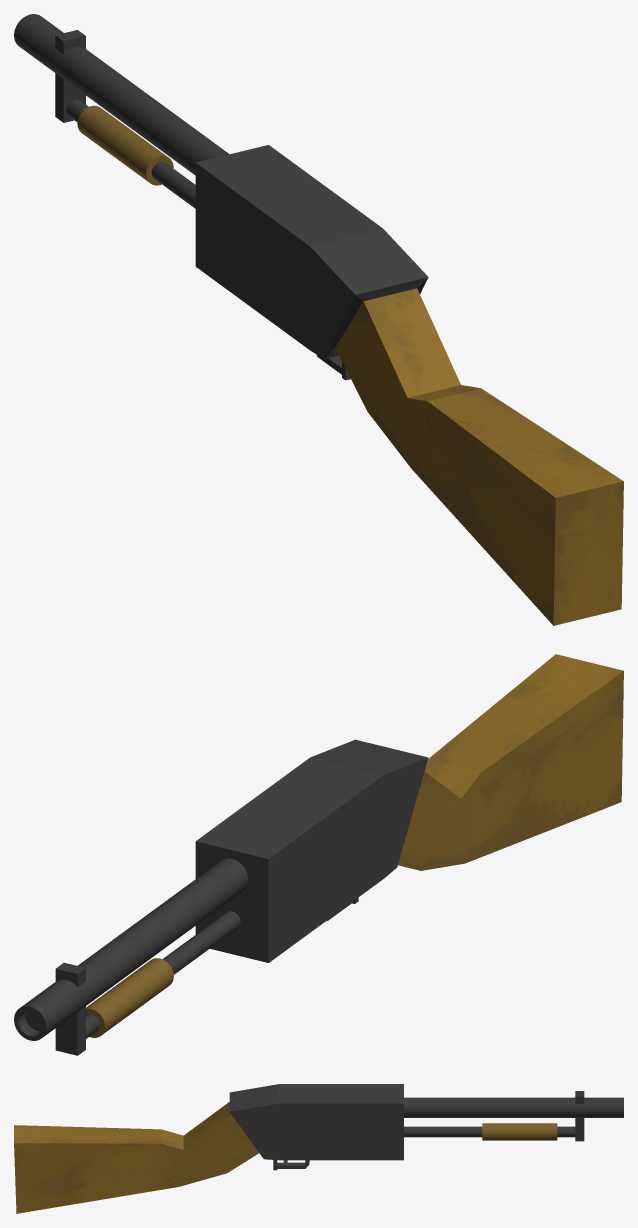
Rendered from shotGun.obj.
3 views of the same model, one above another, from view 1: azimuth 30°, elevation 25°; view 2: azimuth 150°, elevation 25°; view 3: azimuth 270°, elevation 25° (orthographic). The views are drawn at different scales.
Parts seen in each view (by area): view 1: 立方体; view 2: 立方体; view 3: 立方体.
Part boxes in pixels (x1,y1,x2,y2): 立方体: [14, 14, 623, 625]; 立方体: [14, 654, 623, 1055]; 立方体: [14, 1084, 623, 1213].
Size of the model in its own units: 0.1588 by 0.4229 by 2.11.
